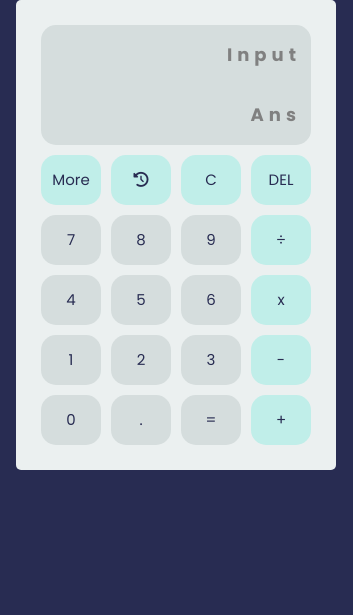
Scenario: Calculator › should find the correct square root of a number
Click the button with test id "more" at (71, 180), box [41,155,101,205]
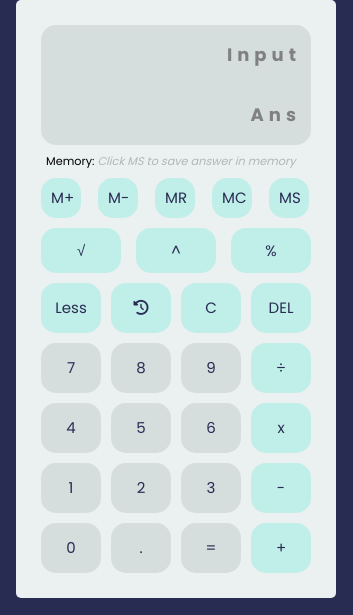
Click the button with test id "9" at (211, 368), box [181,343,241,393]
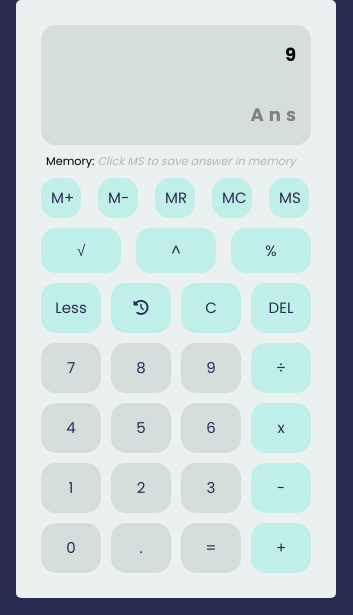
Click the button with test id "sqrt" at (81, 250), box [41,228,121,273]
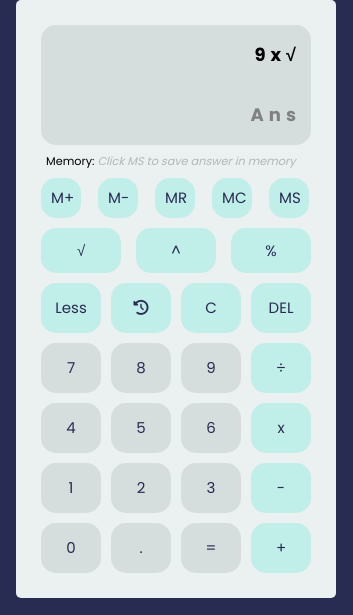
Click the button with test id "9" at (211, 368), box [181,343,241,393]
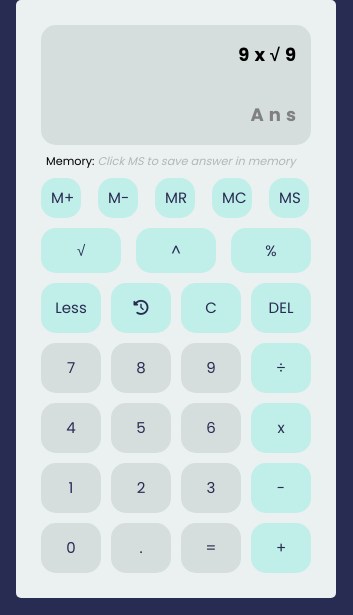
Click the button with test id "=" at (211, 548), box [181,523,241,573]
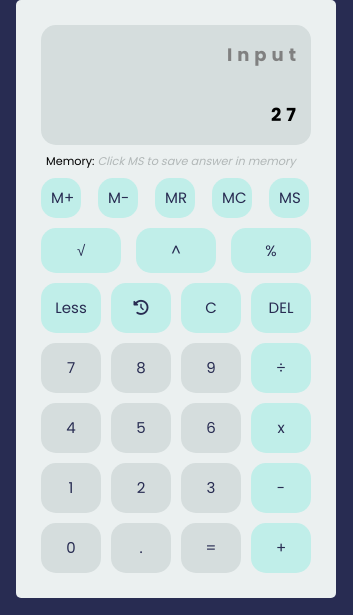
Result: the heading with test id "result" reads "27" at [271,102,301,127]
